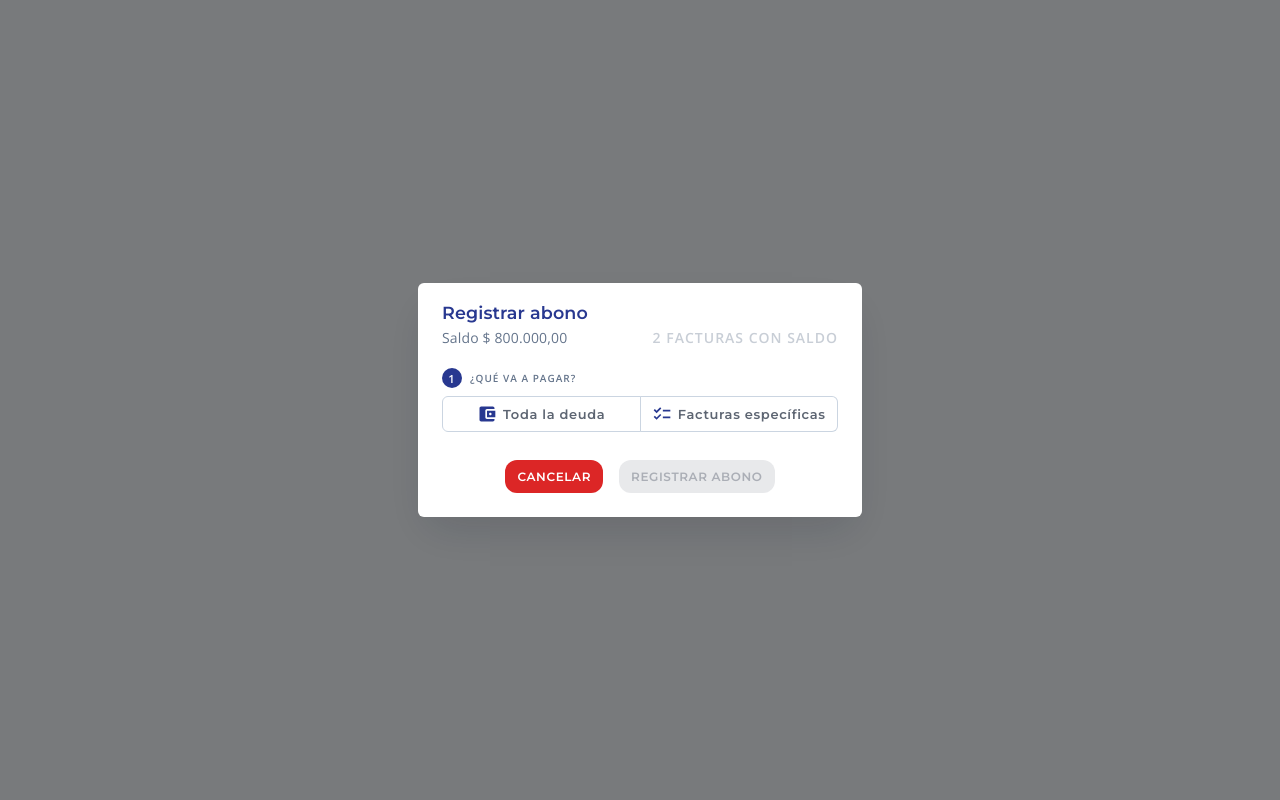
Scenario: AbonoDialog › no deja guardar sin elegir qué se paga, sin valor ni sin medio
The width and height of the screenshot is (1280, 800).
Expected: the button "Registrar abono" is disabled, [619,460,774,494]
Click the button "Toda la deuda": point(541, 414) [442,396,640,432]
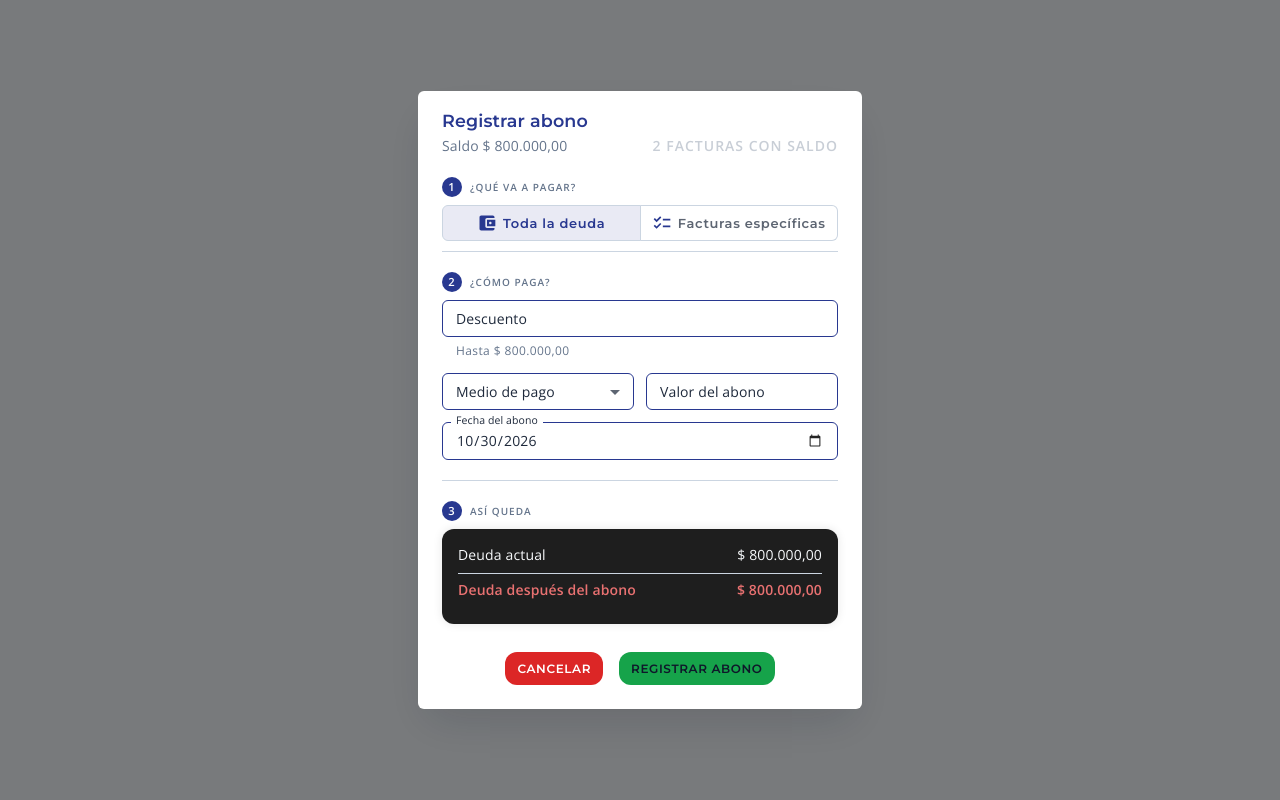
Click the button "Registrar abono": point(697, 668) [619,652,774,685]
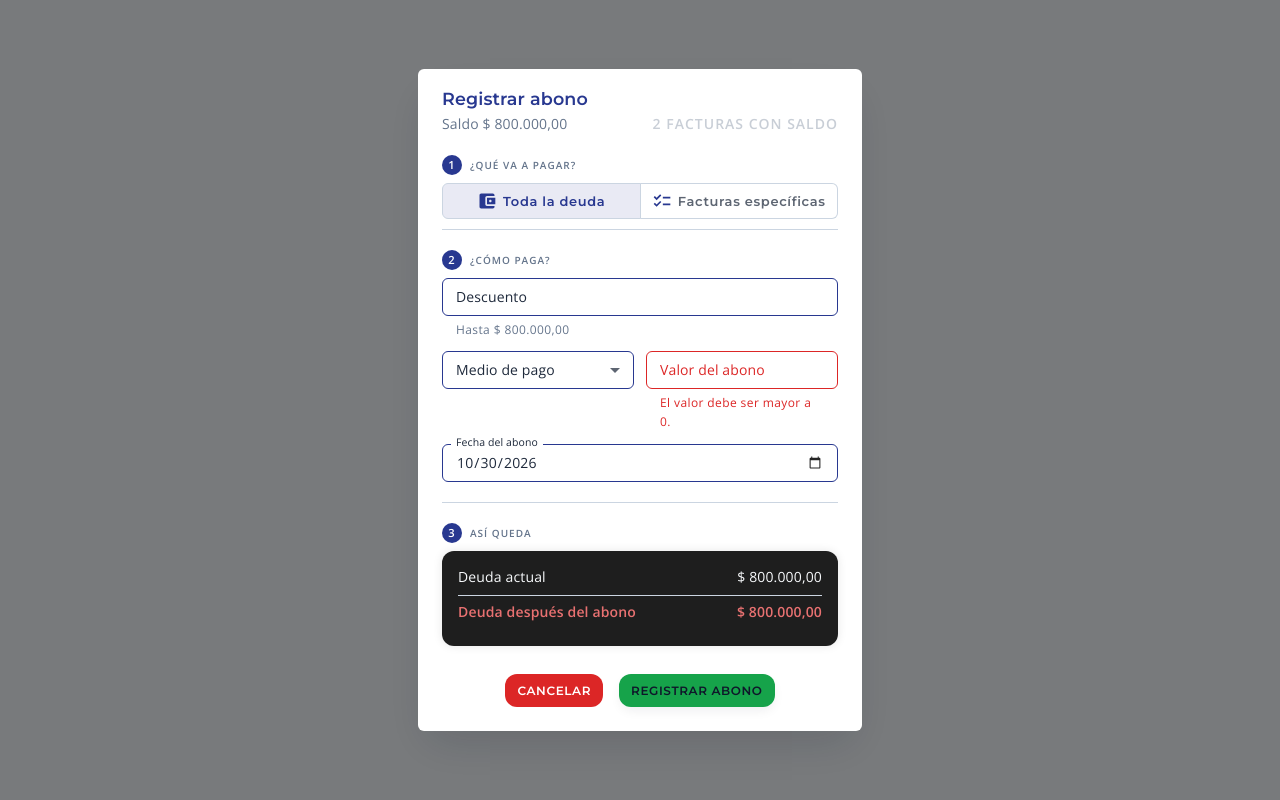
Expected: the text "El valor debe ser mayor a 0." is shown, [660,393,824,432]
In the field labelled "Valor del abono": point(742, 370) [646,352,838,389], type "10000"
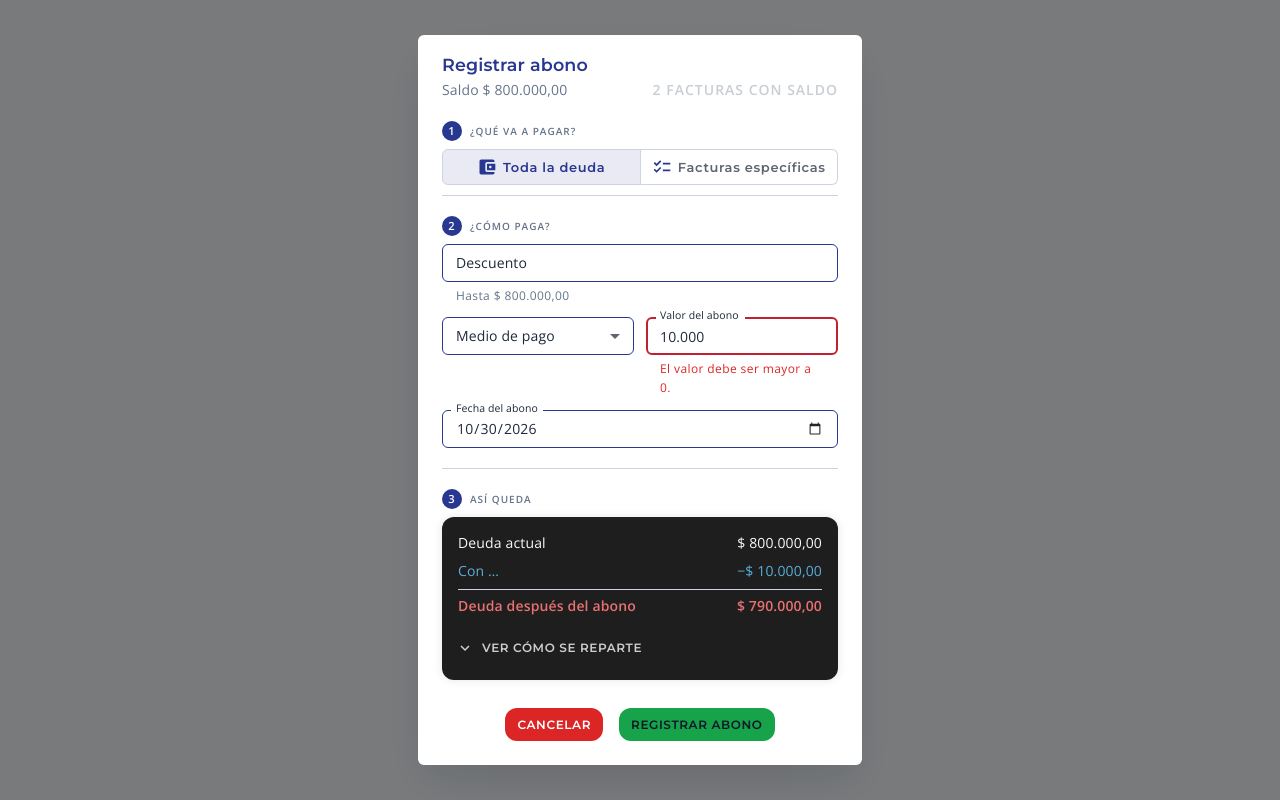
Click the button "Registrar abono": point(697, 724) [619,708,774,740]
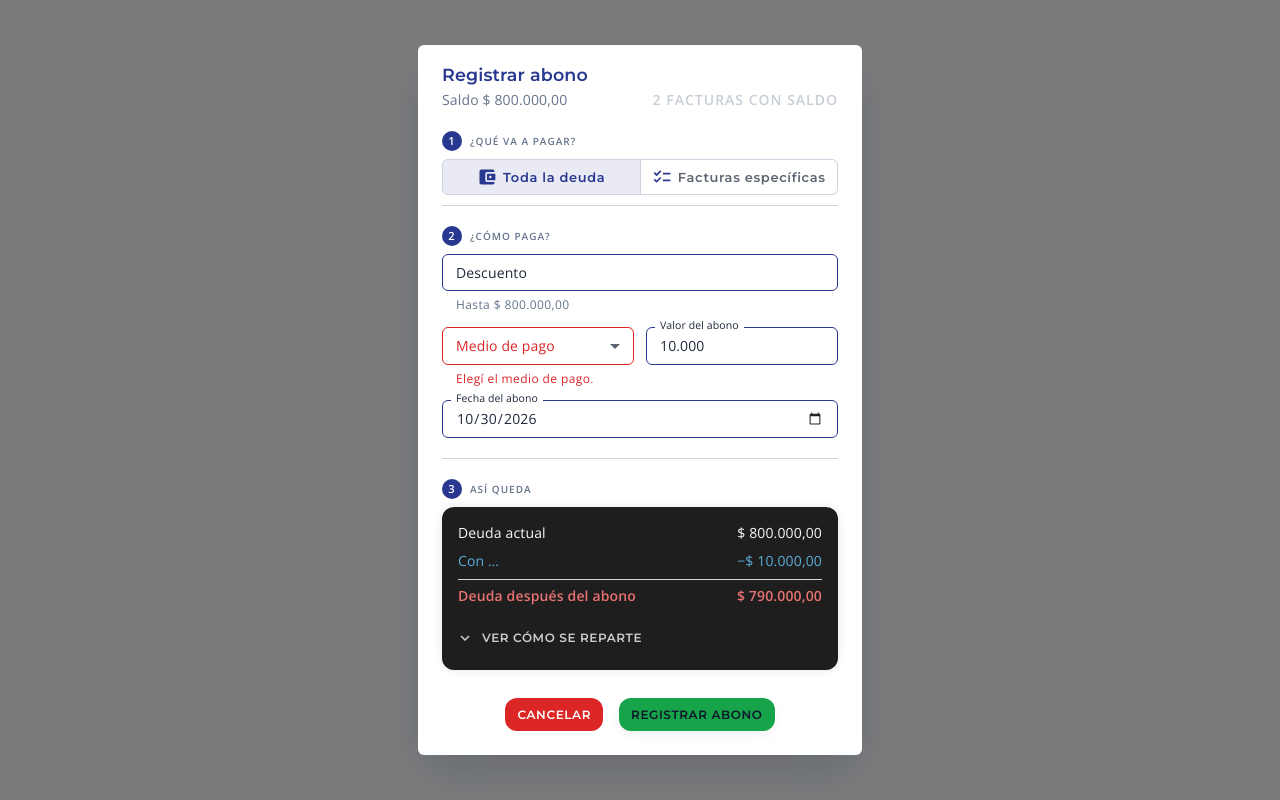
Expected: the text "Elegí el medio de pago." is shown, [456,370,594,386]
